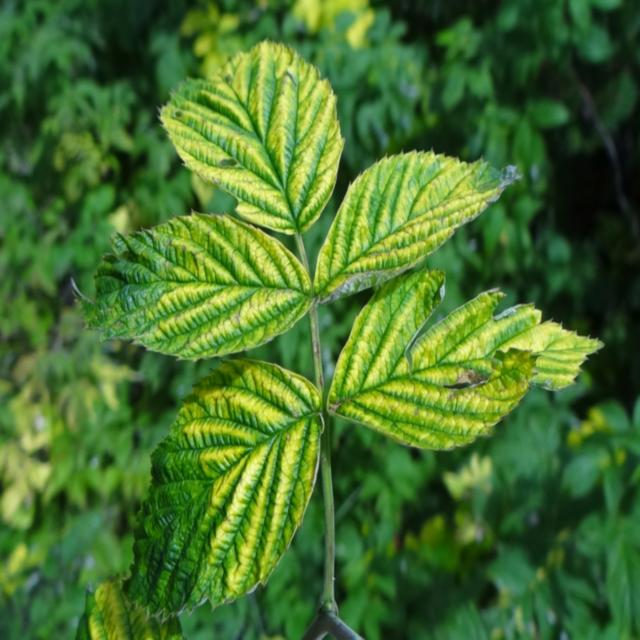Chlorosis: (119, 47, 570, 626)
